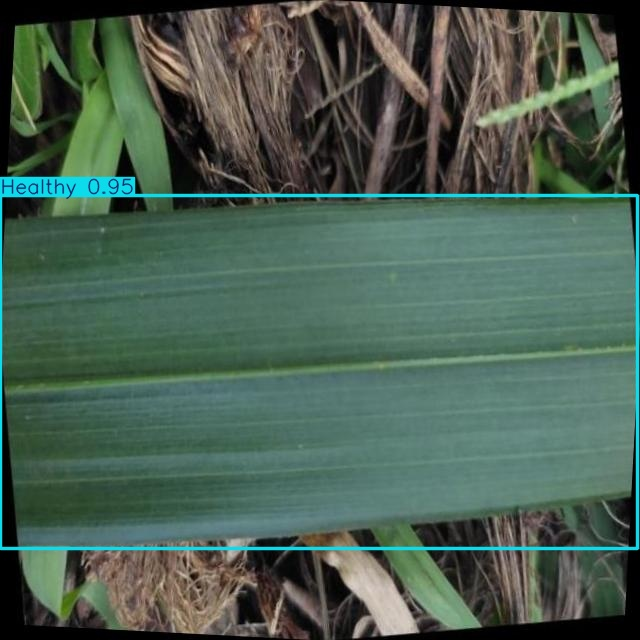Healthy: (1, 196, 638, 549)
